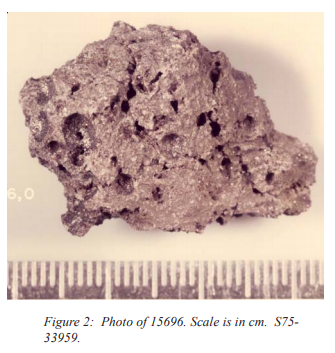Basalt: (13, 28, 321, 239), (117, 89, 274, 197)
